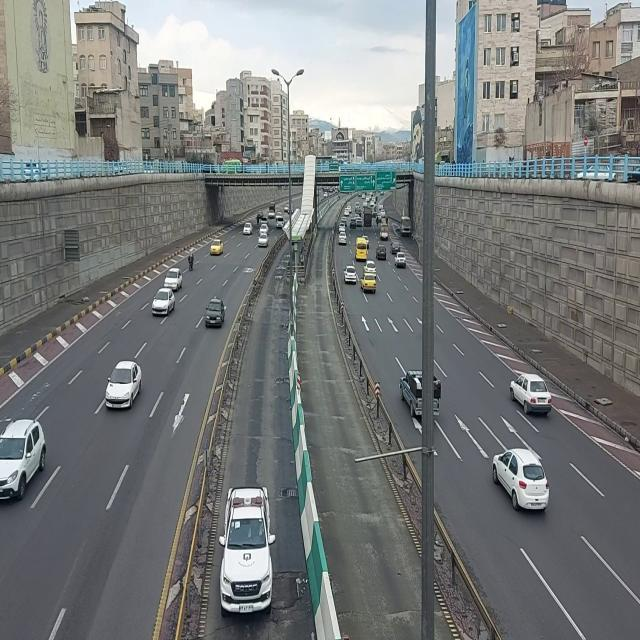Car: (492, 445, 551, 515), (0, 418, 46, 503), (105, 360, 143, 414), (510, 371, 554, 417), (204, 296, 226, 332), (151, 287, 176, 318), (361, 272, 377, 293), (344, 264, 358, 285), (210, 238, 224, 256), (394, 251, 407, 270)
Motorcycle: (187, 248, 195, 273)
Pickup: (219, 484, 277, 618)
